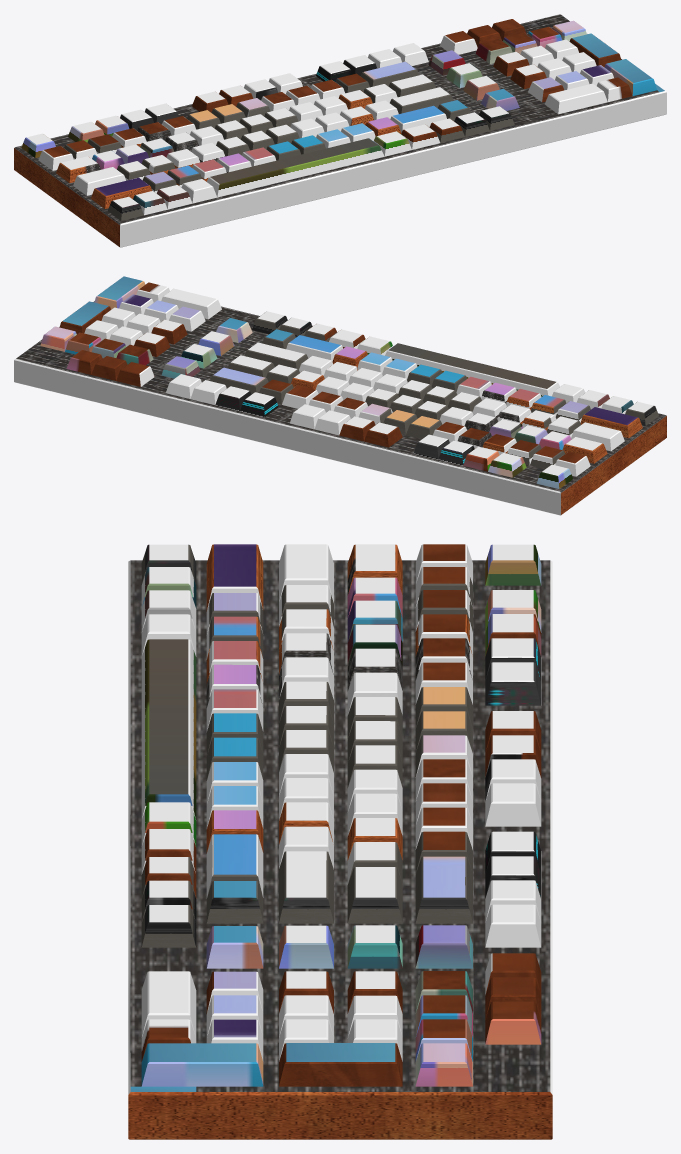
The model's file is keyboard.fbx.
3 views of the same model, one above another, from view 1: azimuth 30°, elevation 25°; view 2: azimuth 150°, elevation 25°; view 3: azimuth 270°, elevation 25° (orthographic). The views are drawn at different scales.
Parts seen in each view (by area): view 1: keyboard; view 2: keyboard; view 3: keyboard.
Part boxes in pixels (left/top/right/bottom): keyboard: left=14, top=14, right=666, bottom=247; keyboard: left=14, top=276, right=666, bottom=515; keyboard: left=128, top=544, right=552, bottom=1139.
Size of the model in its own units: 45.52 by 2.76 by 15.3.
Materials: 1 (1 with a texture image).
